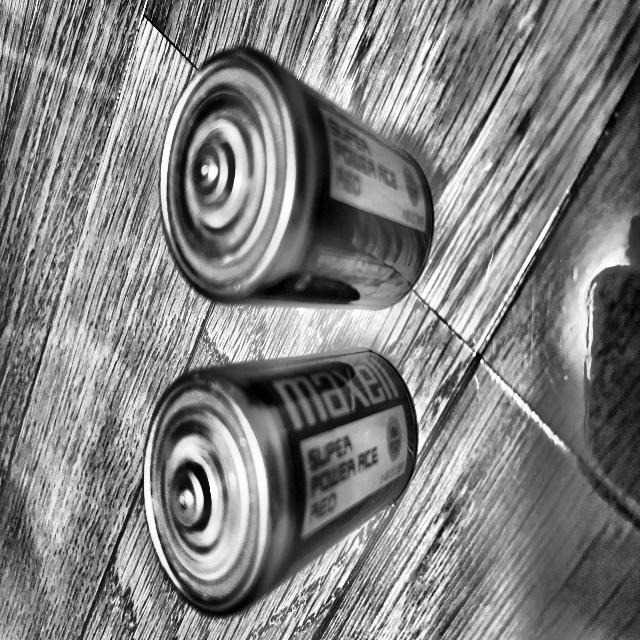drycell: (144, 349, 417, 614), (160, 48, 433, 306)
